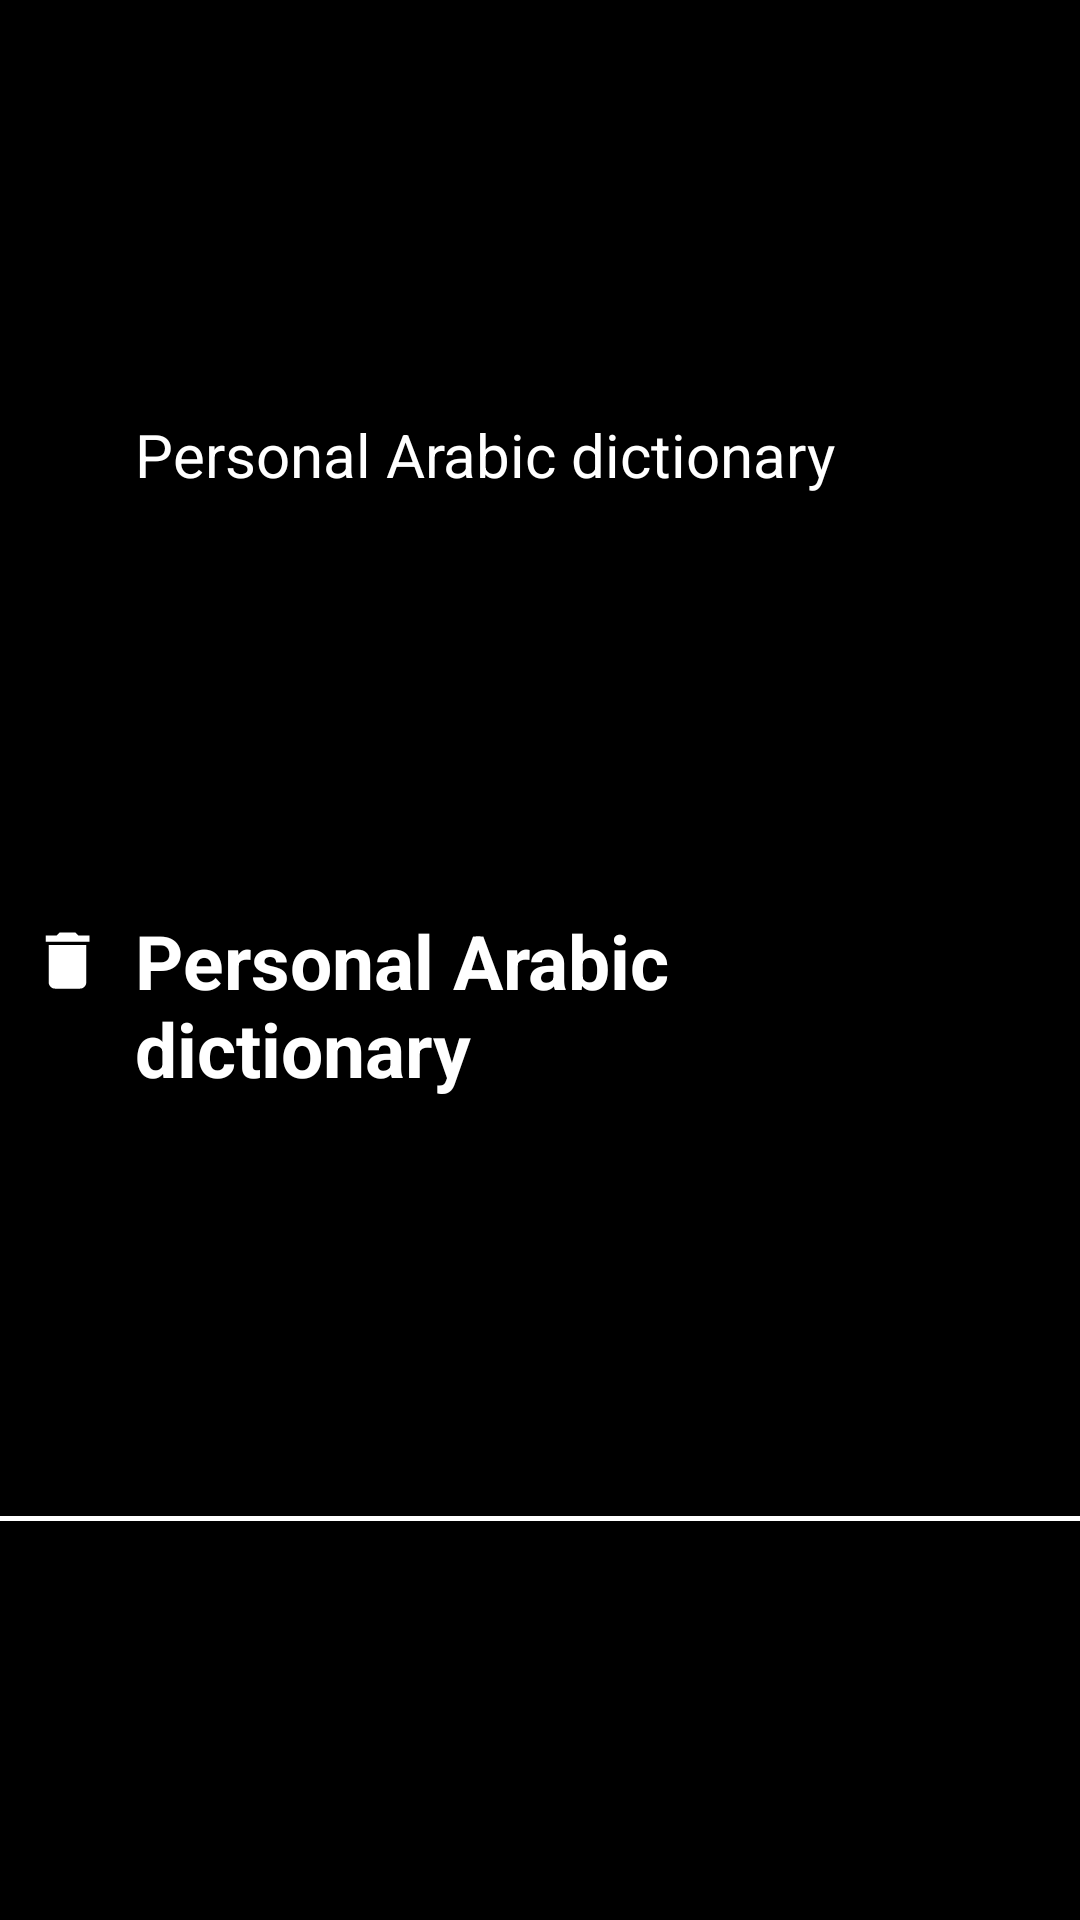

Locate icon controls on the screen. Image size 1080 × 1920, boxes as detection(x1, y1, x2, y2).
delete: detection(45, 932, 90, 989)
